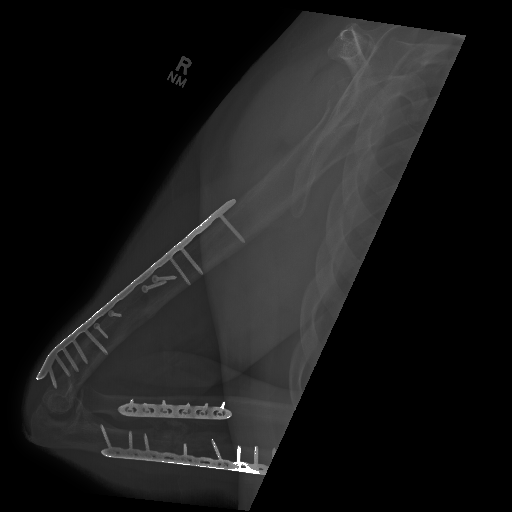implant: (40, 190, 257, 394), (94, 422, 284, 481), (118, 396, 238, 424)
